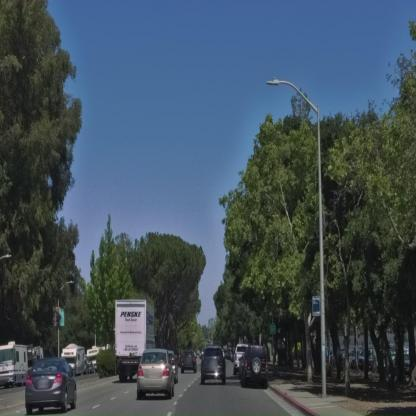car: (23, 358, 78, 416), (135, 347, 180, 400), (234, 343, 270, 388), (199, 348, 226, 386), (234, 343, 248, 369), (182, 351, 198, 373)
truck: (114, 301, 149, 383), (0, 344, 30, 388), (62, 344, 88, 377)
